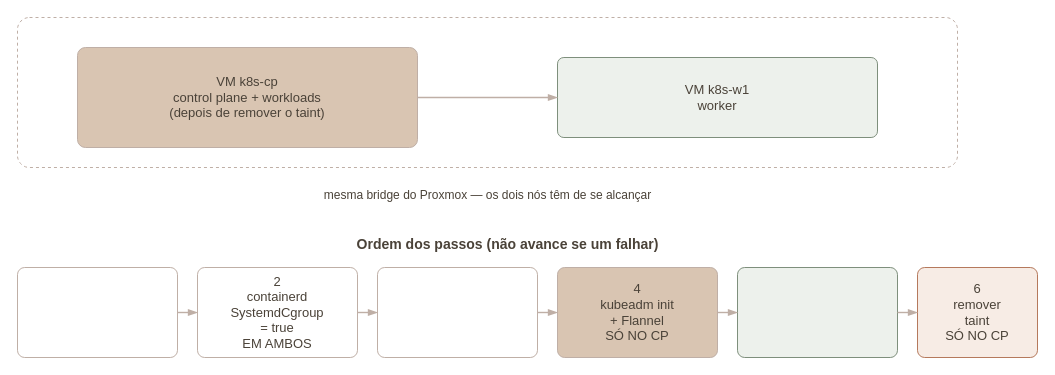
This 1055x375 diagram has some shape labels left out. The shapes that lost their labels are listed below. From the top down, each one's centre as x and y in pixels, then its label:
the point at 97,312: 1 swap off módulos sysctl EM AMBOS
the point at 457,312: 3 kubeadm kubelet kubectl EM AMBOS
the point at 817,312: 5 kubeadm join SÓ NO WORKER
